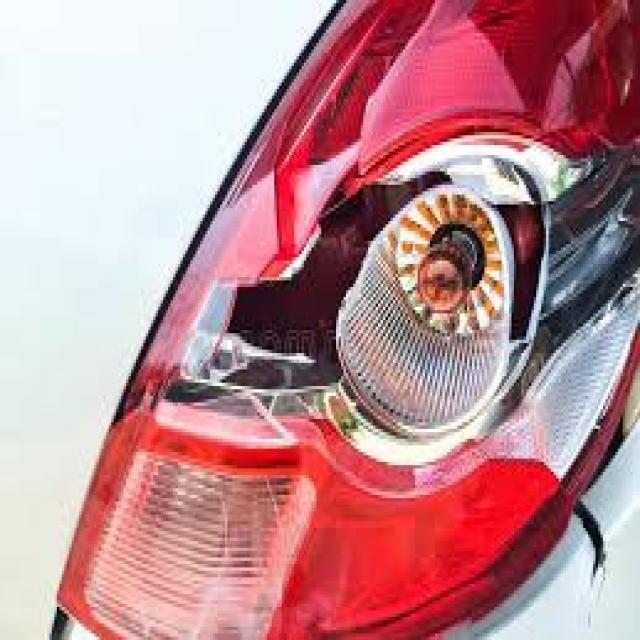damaged-tail-light: (59, 0, 640, 640)
